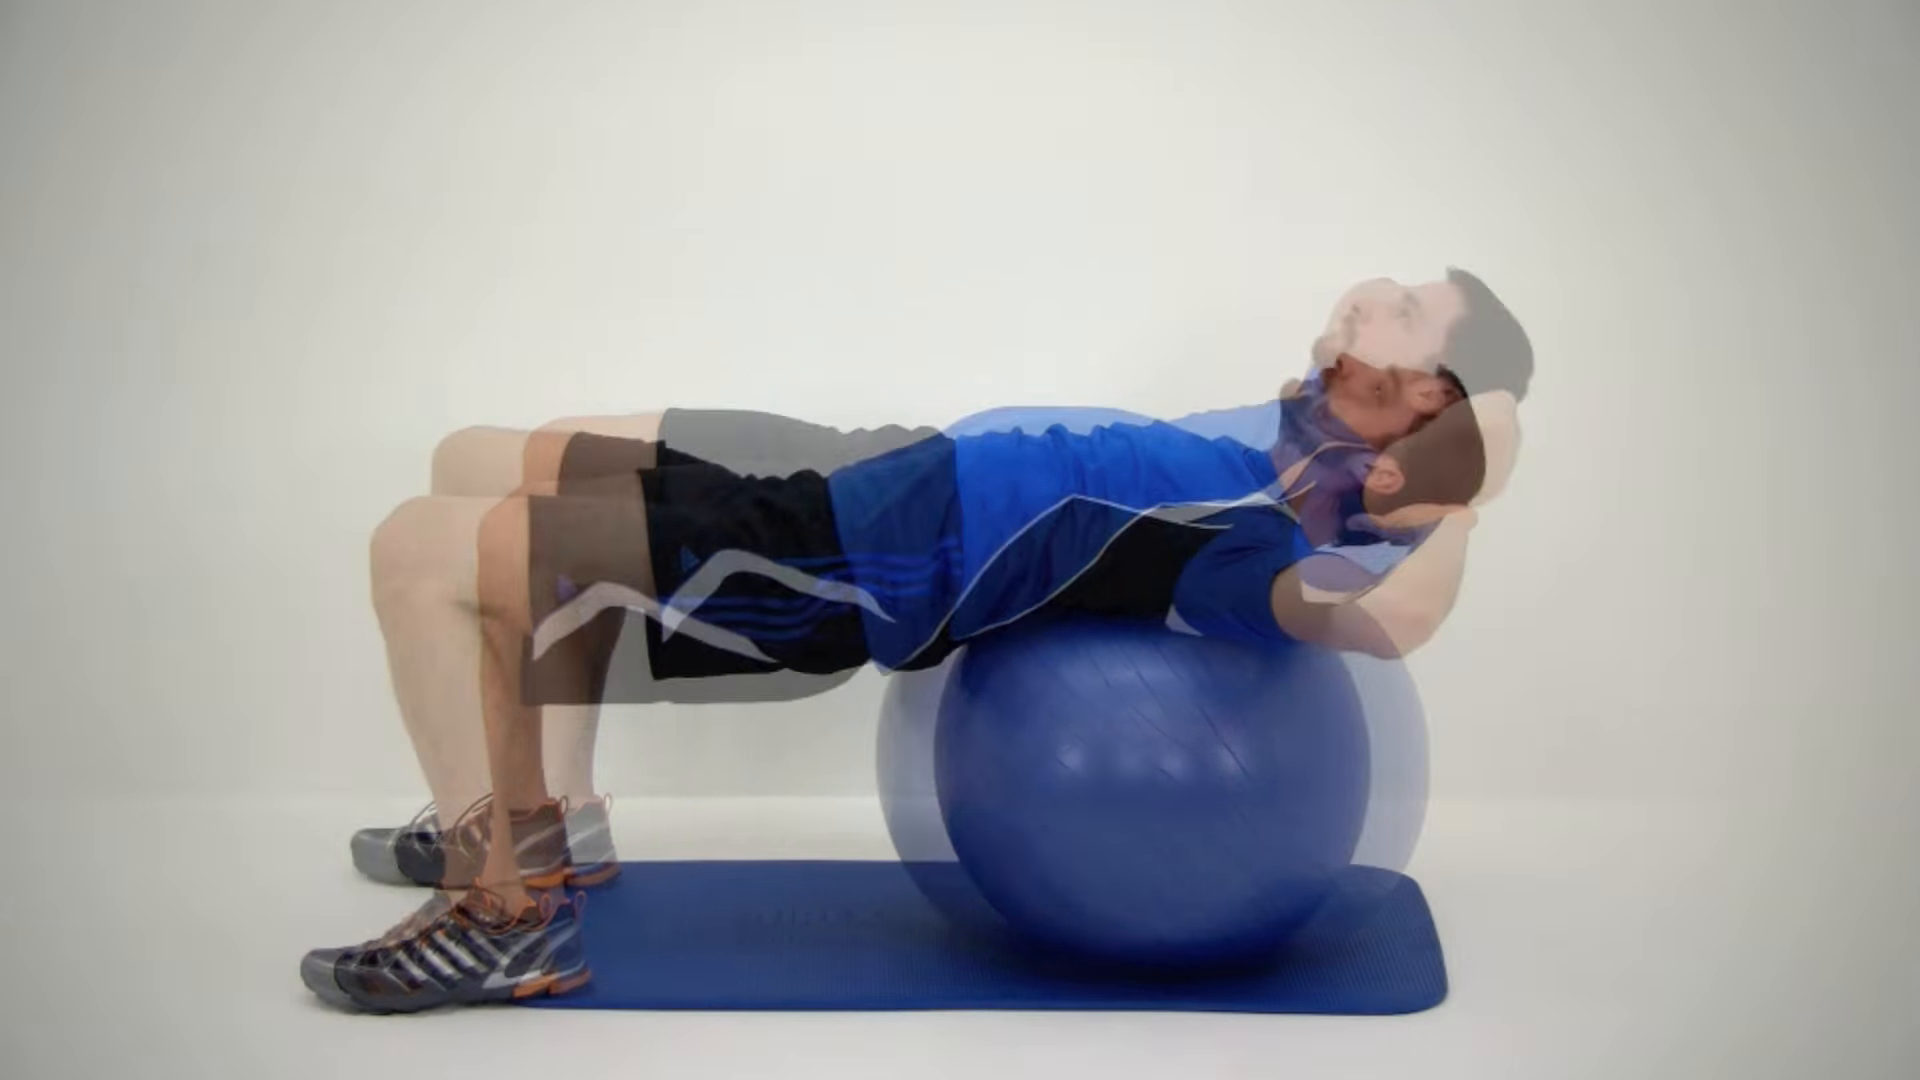yogaball: (911, 546, 1387, 971)
